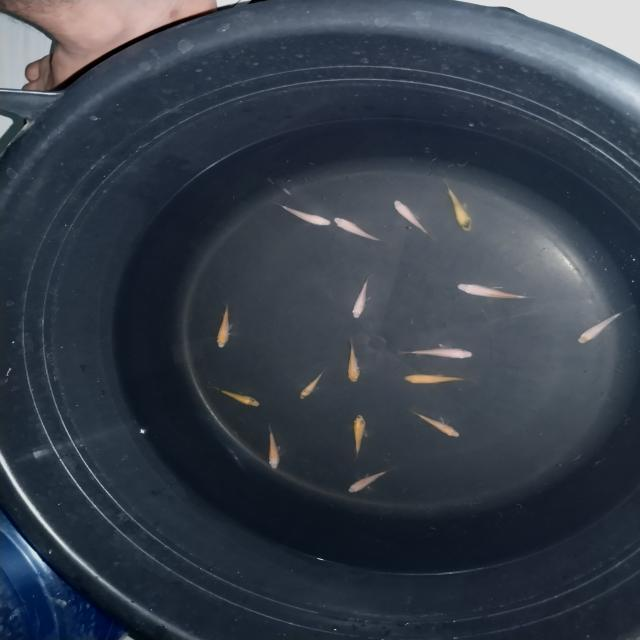nila: (576, 306, 632, 346), (391, 196, 439, 240), (451, 283, 535, 306), (439, 180, 475, 233), (268, 200, 332, 228), (406, 409, 462, 439), (330, 215, 384, 244), (396, 342, 477, 360), (350, 272, 376, 322), (207, 384, 260, 408), (347, 468, 395, 494), (340, 336, 364, 384), (399, 372, 475, 386), (214, 298, 234, 350), (296, 369, 326, 402), (349, 414, 367, 461), (265, 424, 281, 471)
